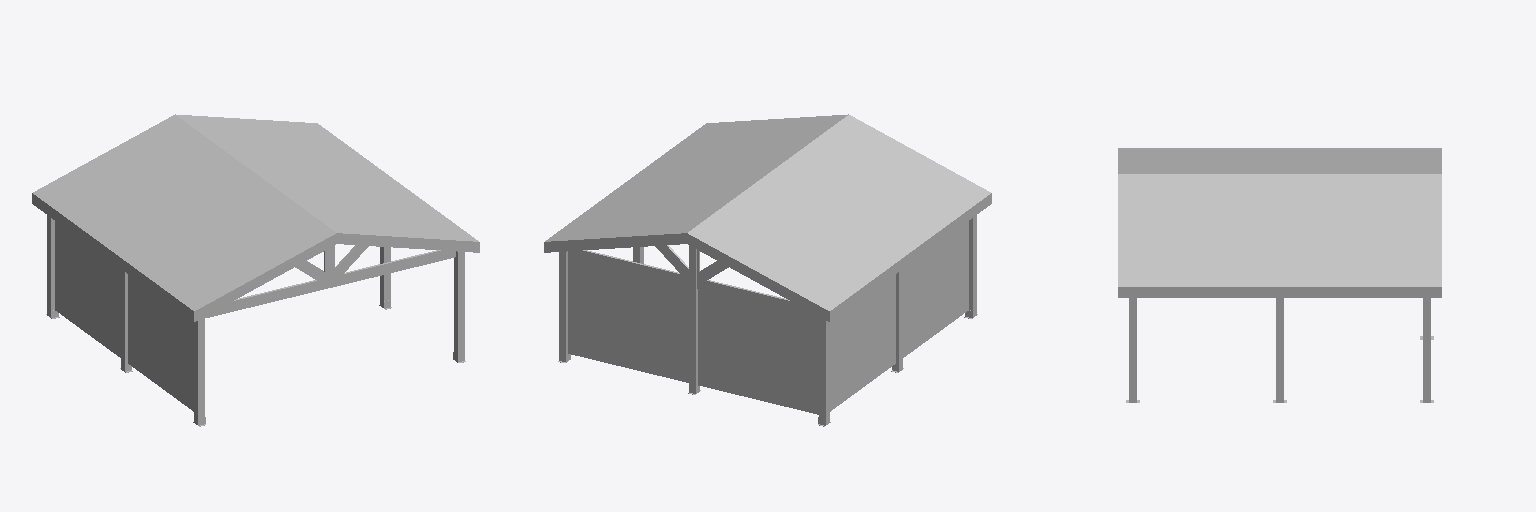
The model's file is shed.obj.
3 renders of one model, left to right at view 1: azimuth 30°, elevation 25°; view 2: azimuth 150°, elevation 25°; view 3: azimuth 270°, elevation 25°, orthographic.
Parts seen in each view (by area): view 1: shed; view 2: shed; view 3: shed.
Boxes of the visible parts, x1=… form: shed: x1=32, y1=114, x2=479, y2=426; shed: x1=544, y1=114, x2=991, y2=426; shed: x1=1118, y1=148, x2=1441, y2=402.
Bounding box in the file's own units: 236 × 130 × 232.